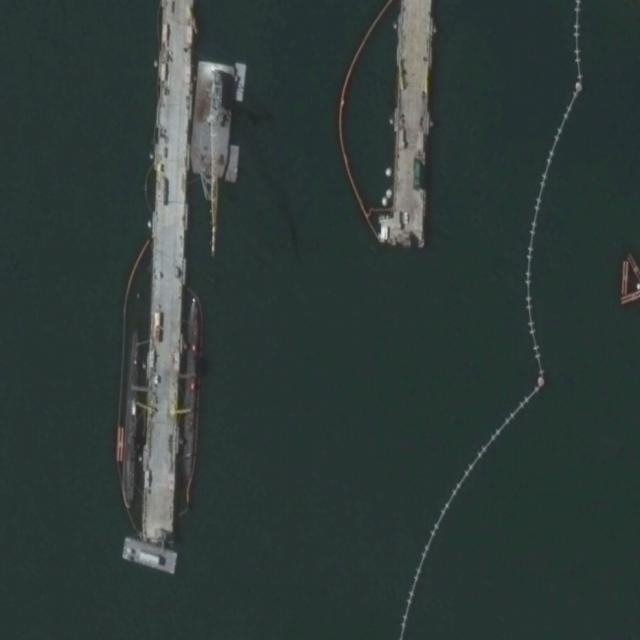Submarine: (121, 329, 144, 509), (181, 293, 201, 486)
